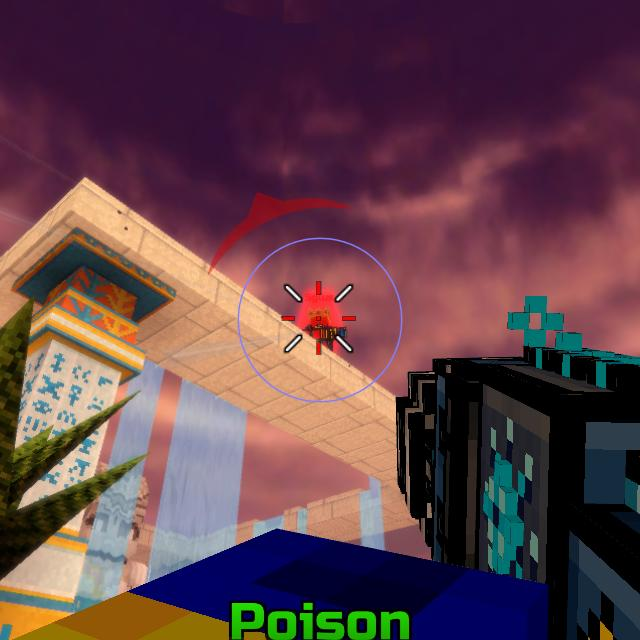Enemy: (302, 306, 348, 352)
